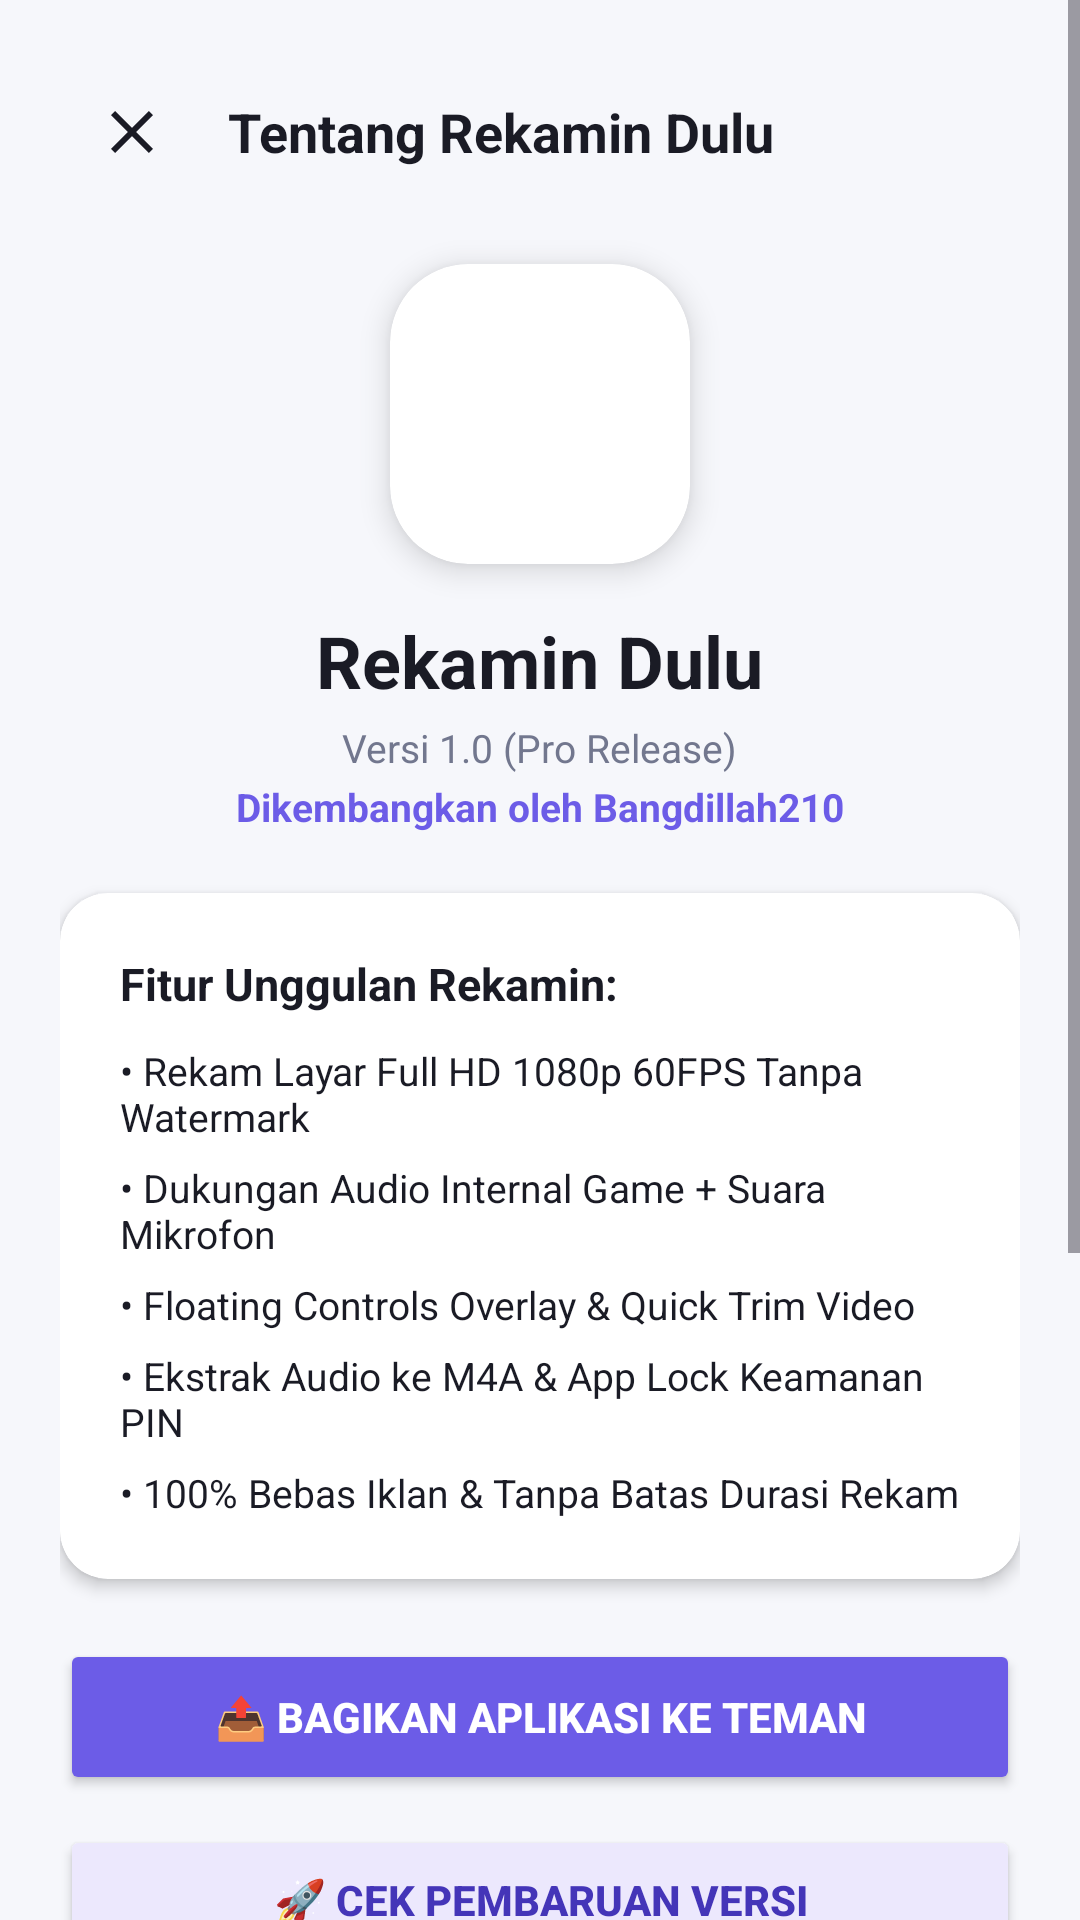

Named icons in this screenshot (1080w x 1920h) and their bounding boxes, (x1, y1, x2, y2):
Kembali: (111, 111, 153, 153)
